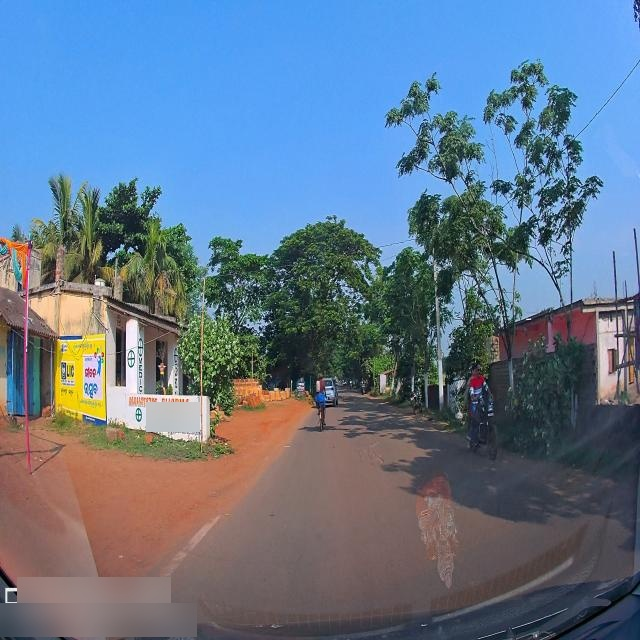pothole: (370, 453, 385, 471), (364, 438, 380, 449), (379, 429, 390, 440)
